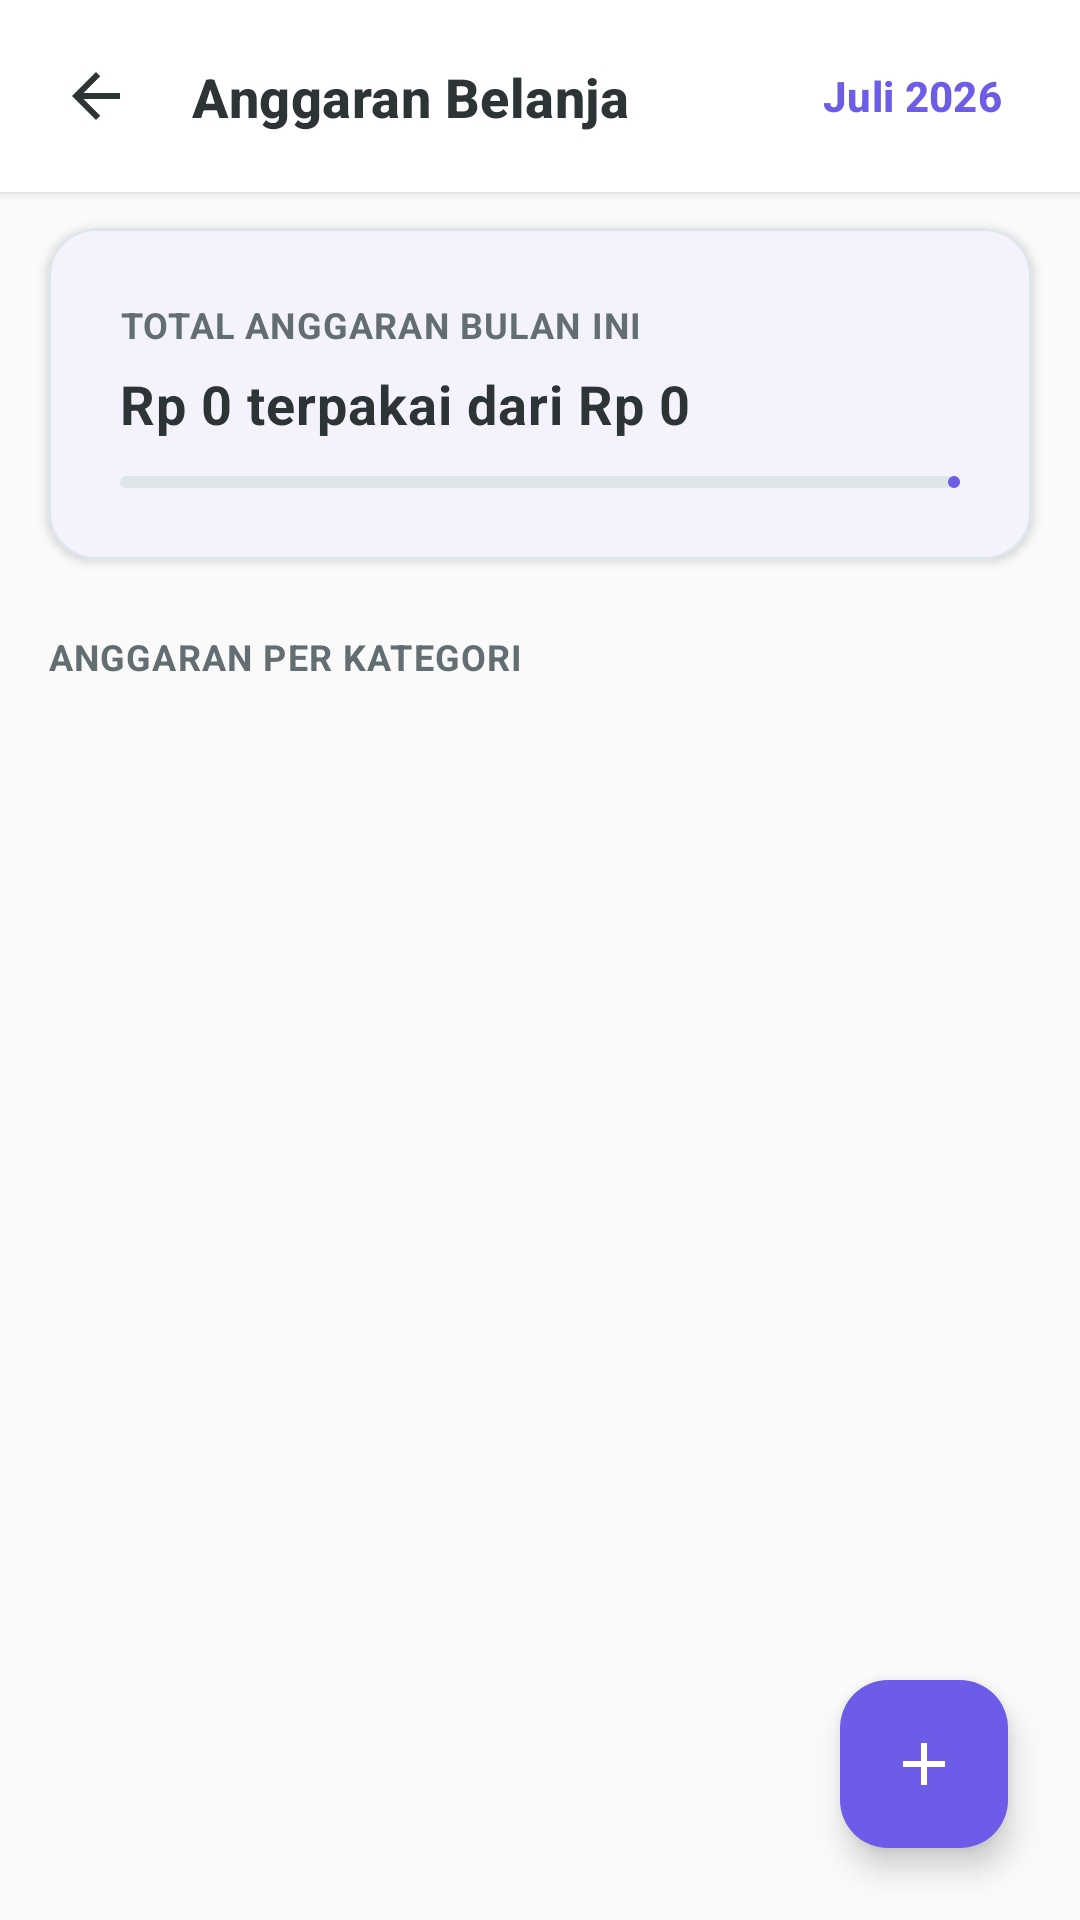

Screen size 1080 x 1920. Icon name, then its box in pixels as box=[x1, y1, x2, y2]:
Add new budget: box=[840, 1680, 1008, 1848]
Go Back: box=[72, 72, 120, 120]
